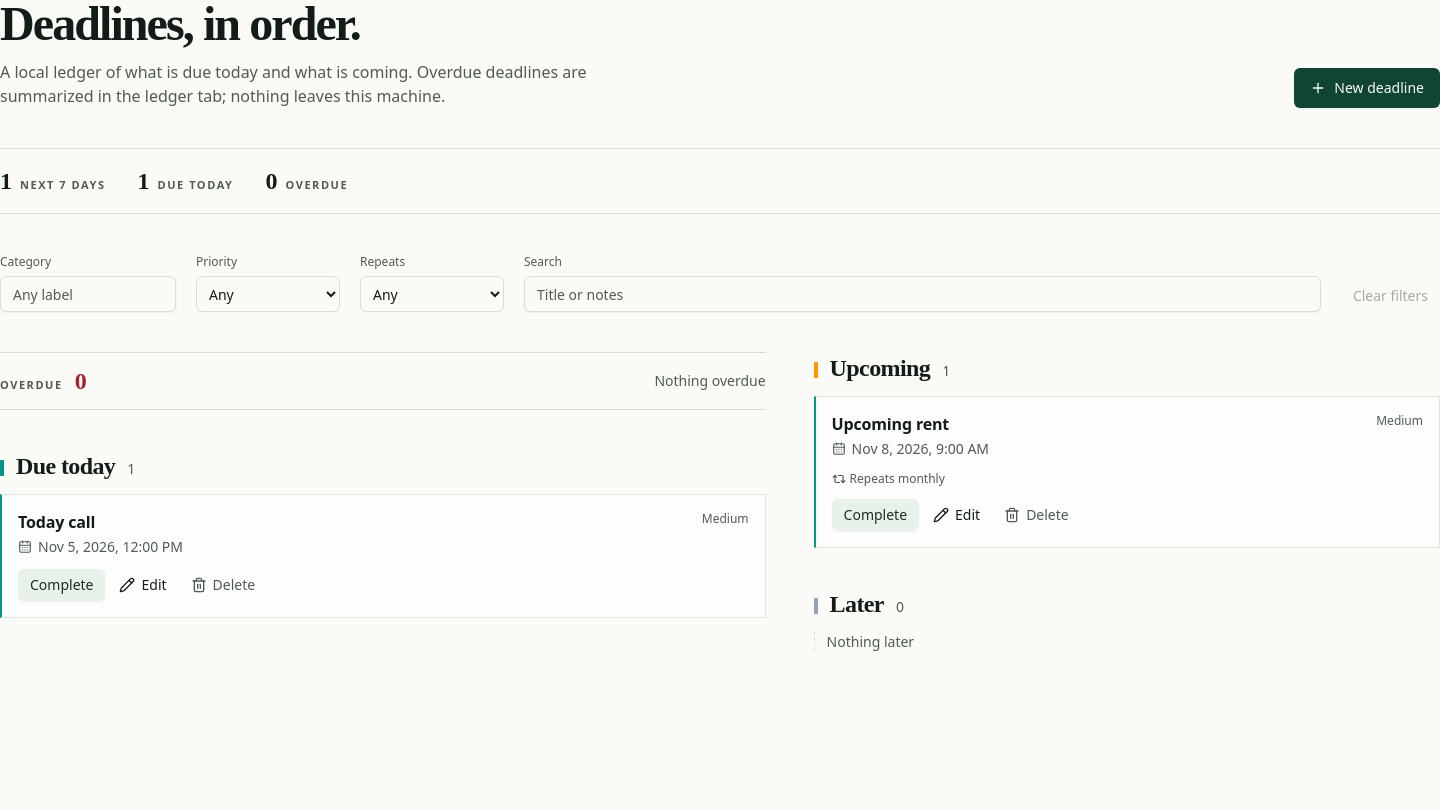
Test: keyboard shortcuts › opens delete confirmation for the active item with Delete
The image size is (1440, 810).
Expected: the heading "Today call" is shown, [18,511,95,533]
Step 1. Type keys "j"
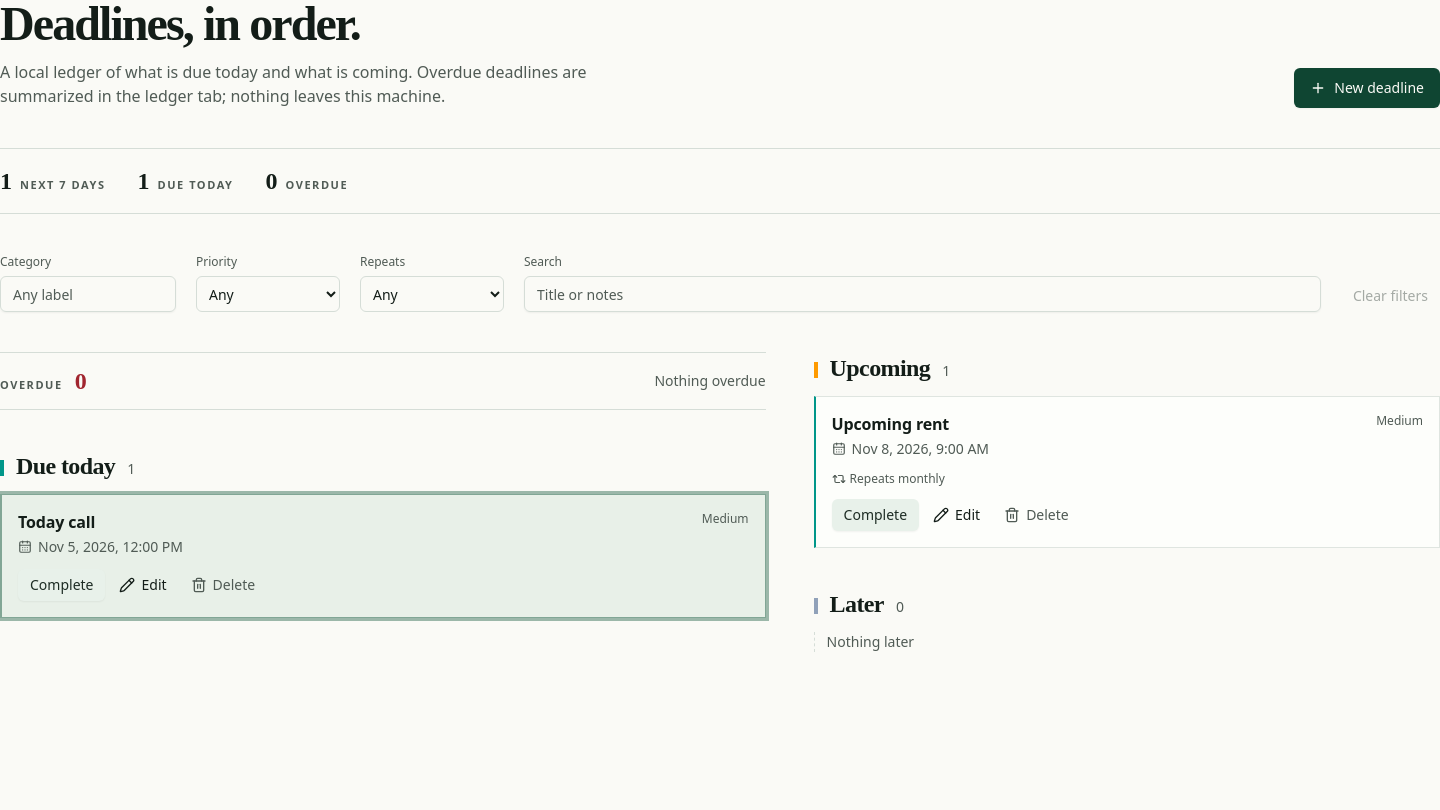
Step 2. Press Delete
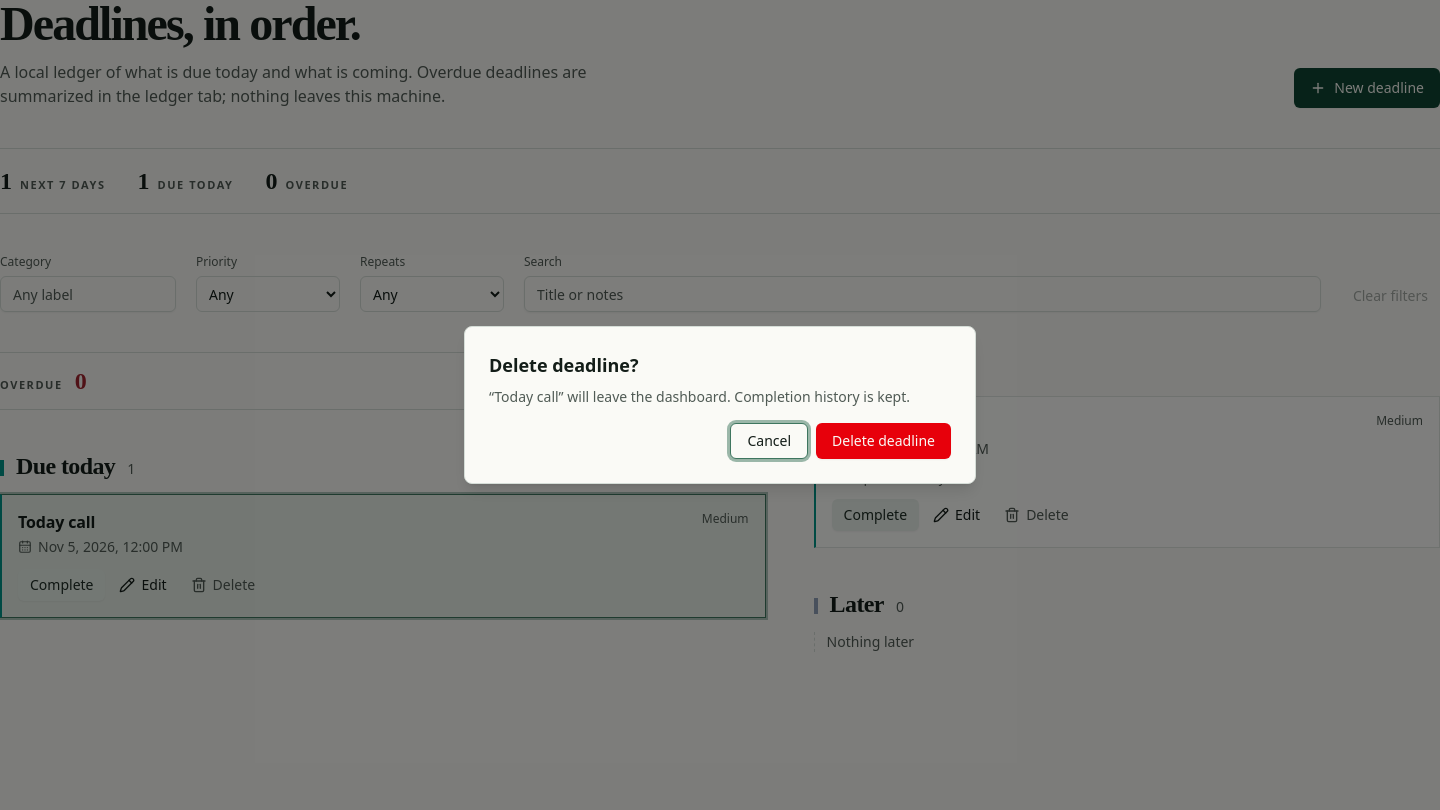
Now the heading "Delete deadline?" is shown, box [489,353,638,377]
Now the text "Today call" is shown, box [489,387,910,406]
Step 3. Click the button "Delete deadline" → (884, 441), box [816,423,951,459]
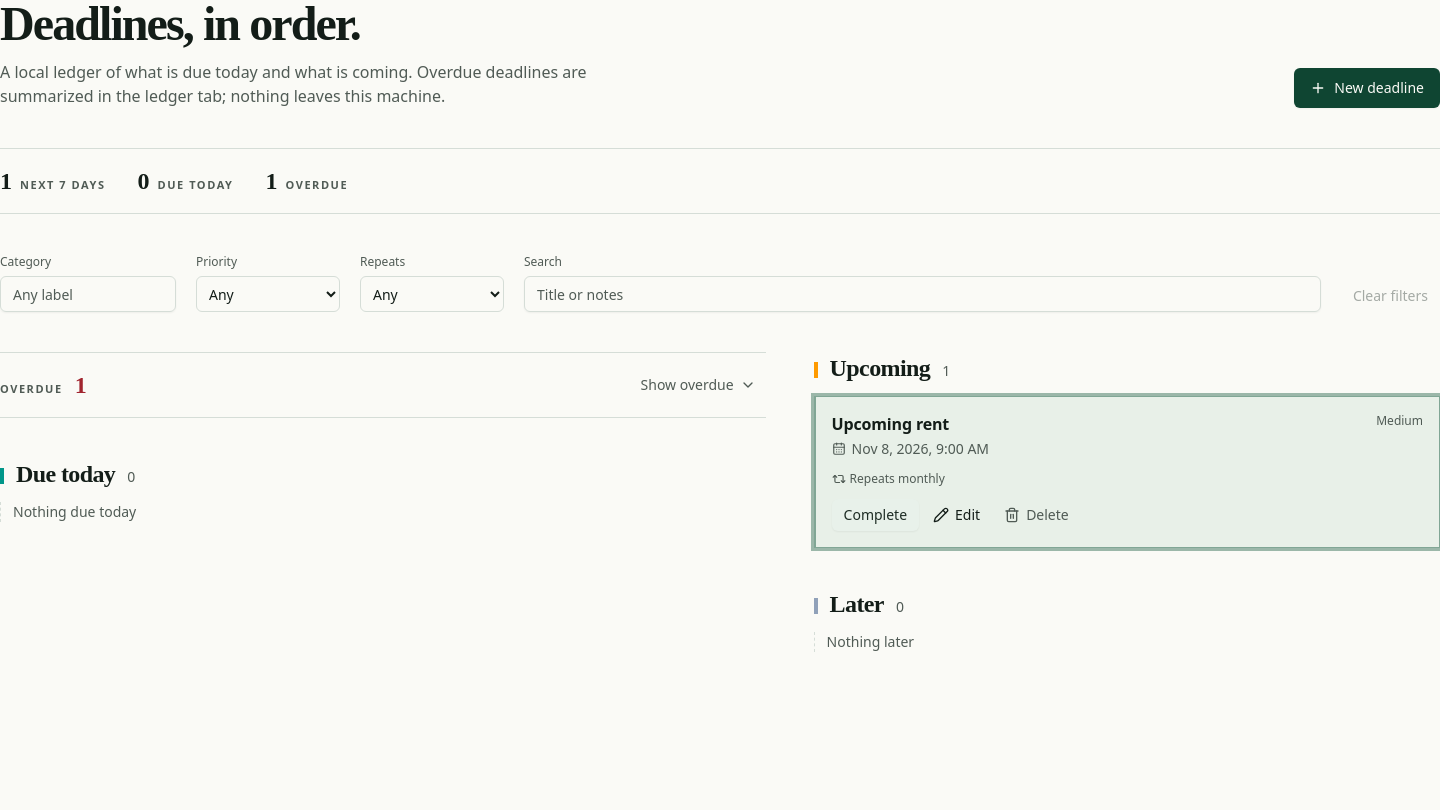
Now the heading "Today call" is gone
